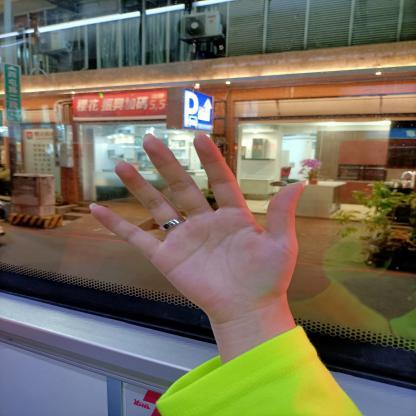bare_hand: (84, 120, 318, 340)
